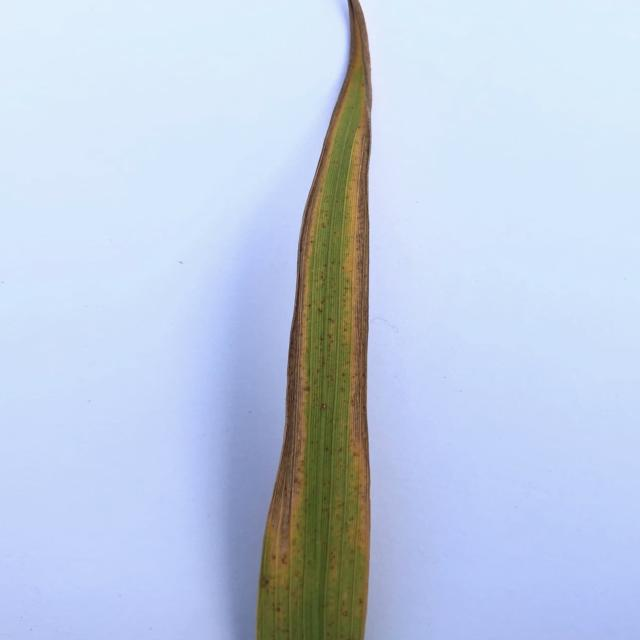tungro: (334, 0, 391, 599), (266, 170, 323, 588)
